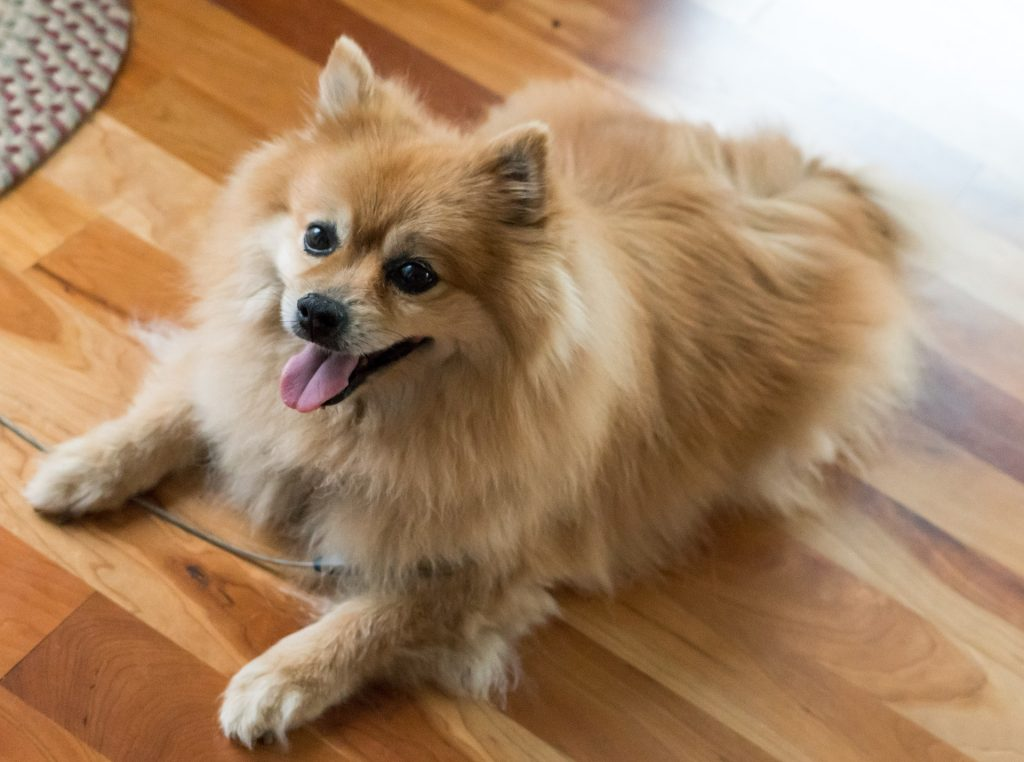pomeranian: (102, 27, 965, 736)
